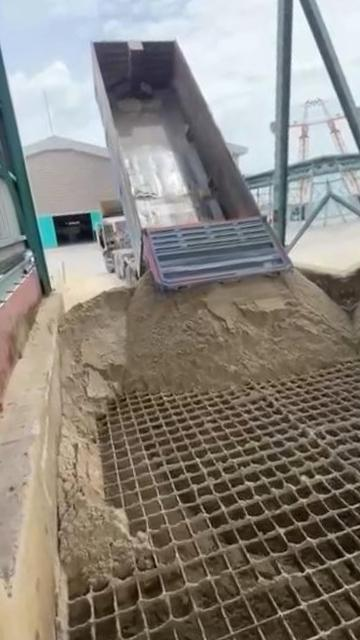sand: (59, 270, 356, 579)
